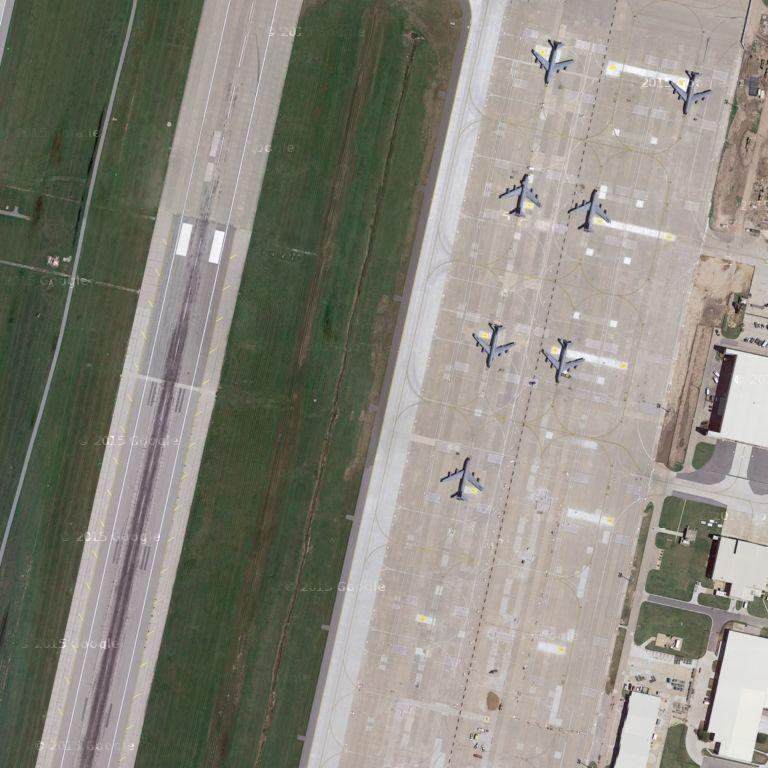KC-135: (468, 320, 519, 373), (537, 334, 587, 388), (667, 65, 716, 118), (530, 37, 578, 90), (495, 173, 545, 221), (436, 454, 486, 502), (566, 184, 612, 236)
